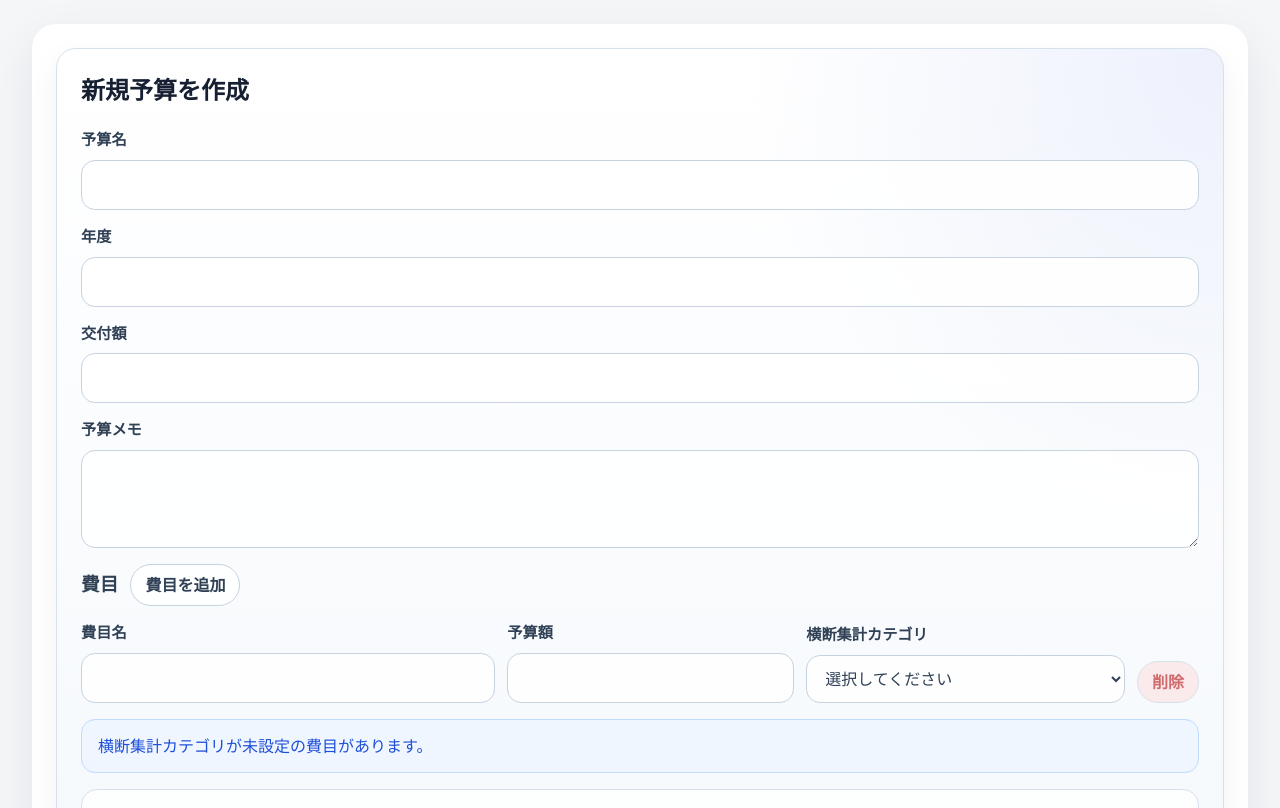
Test: NewFundForm › shows a blocking error when the API rejects the payload
Type "次年度予算" into the field labelled "予算名" at [640, 185], box [81,160,1199,210]
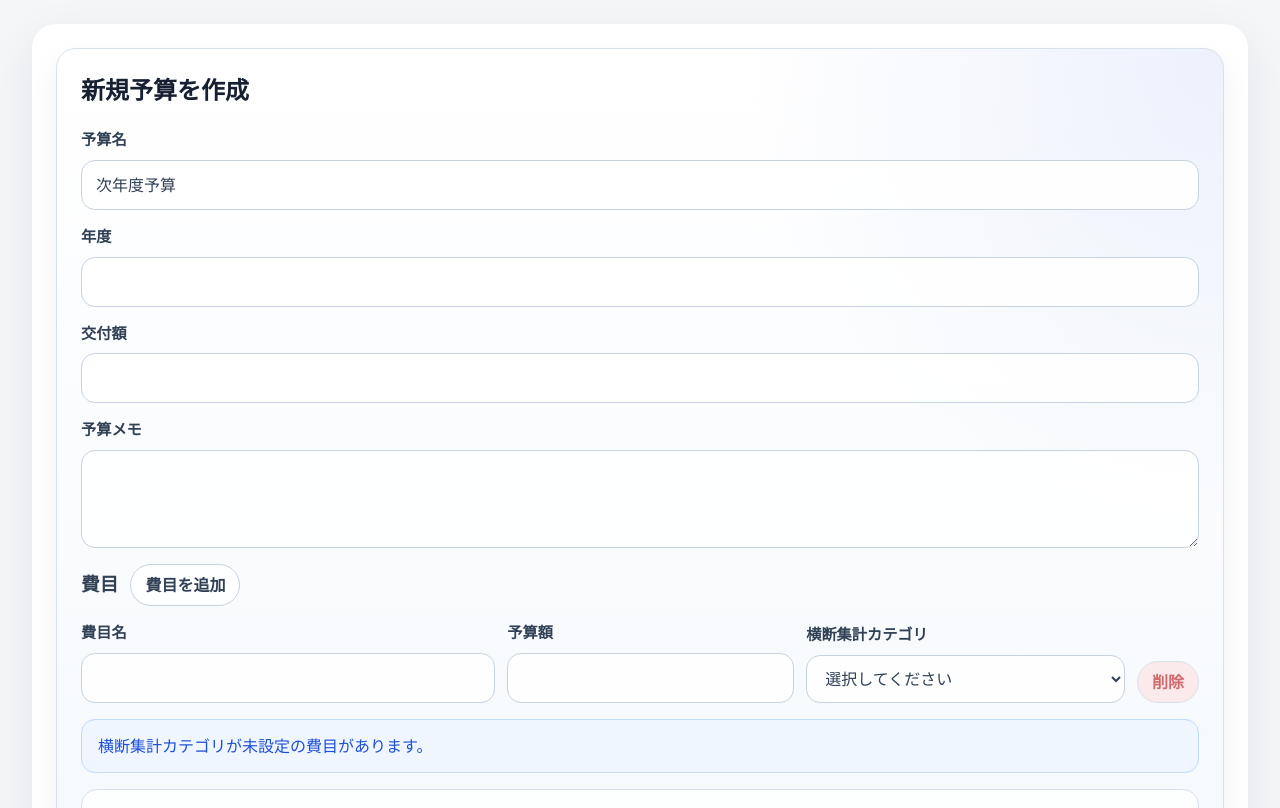
Type "2027" into the number field labelled "年度" at [640, 282], box [81,257,1199,307]
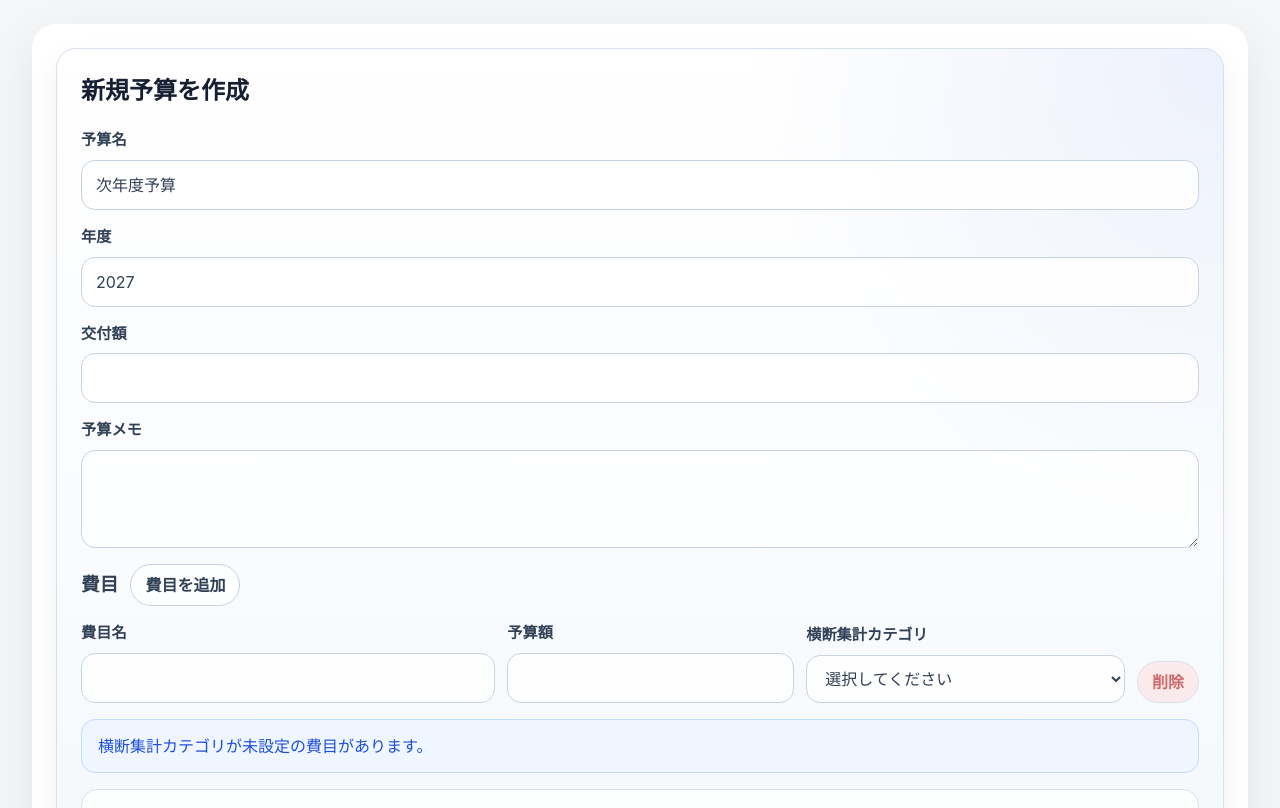
Type "1800000" into the field labelled "交付額" at [640, 378], box [81,353,1199,403]
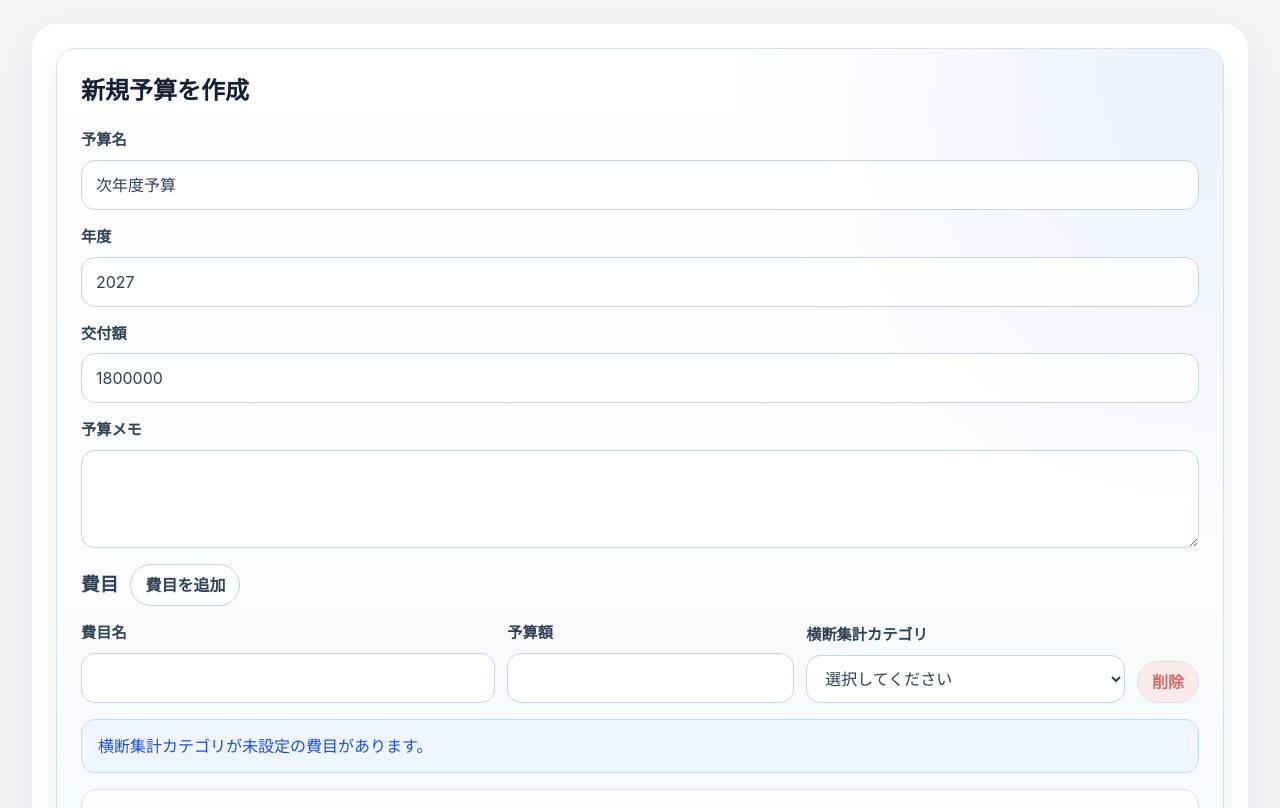
Type "出張" into the field labelled "費目名" at [288, 678], box [81,653,495,703]
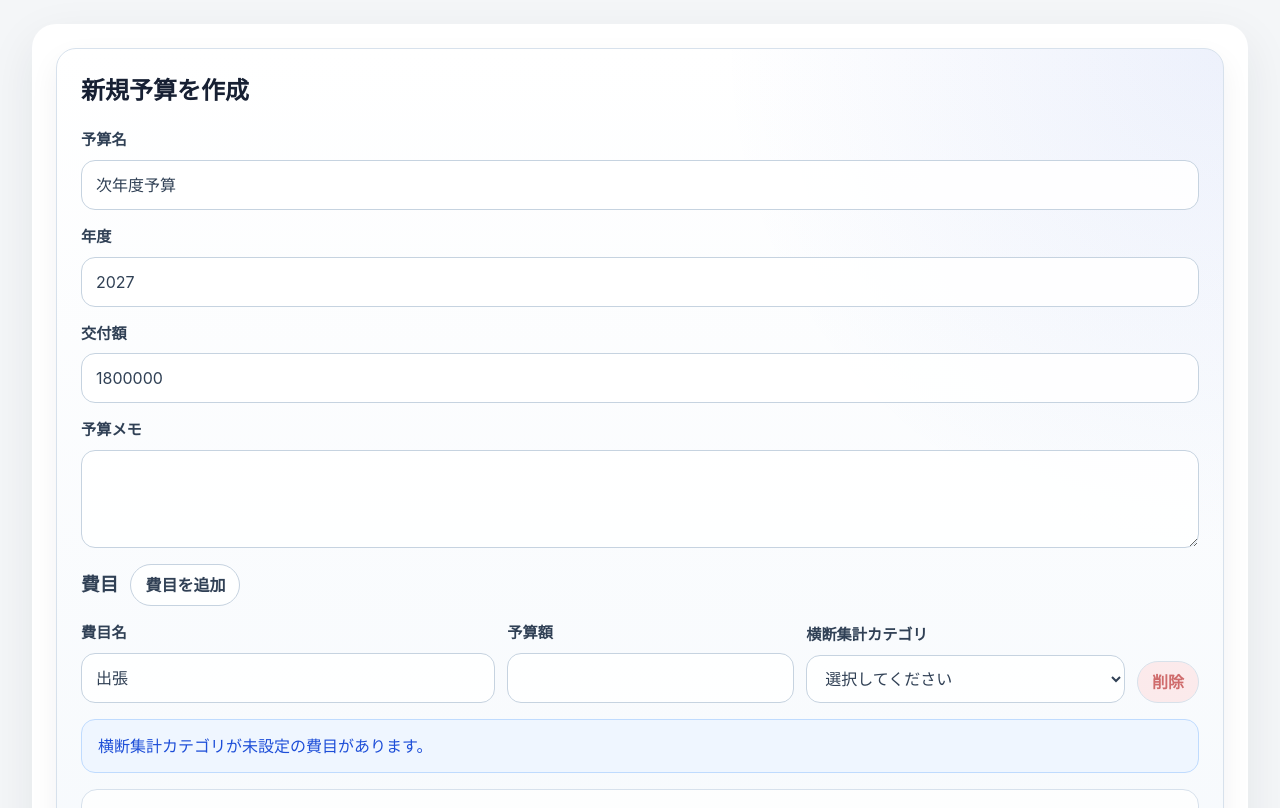
Type "700000" into the field labelled "予算額" at [651, 678], box [507,653,794,703]
(page scrolled)
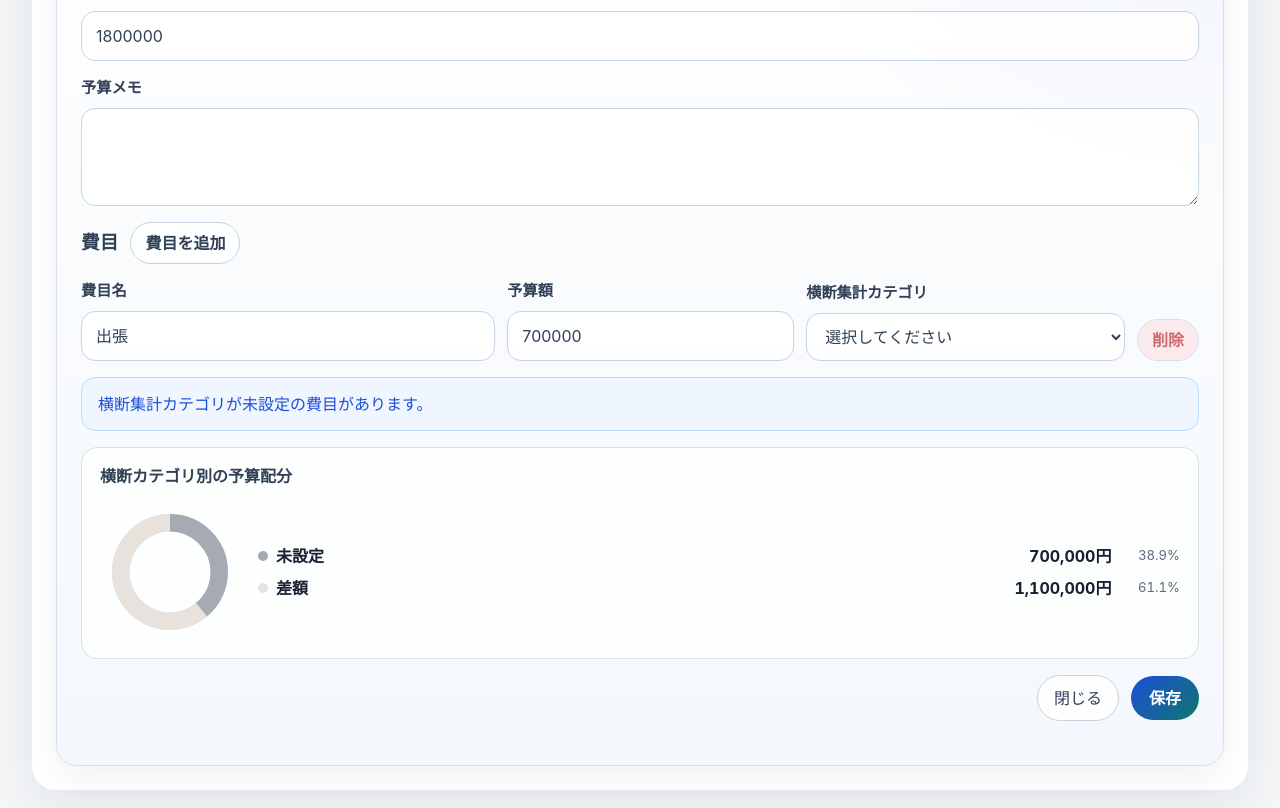
Click the button "保存" at [1165, 698], box [1131,676,1199,720]
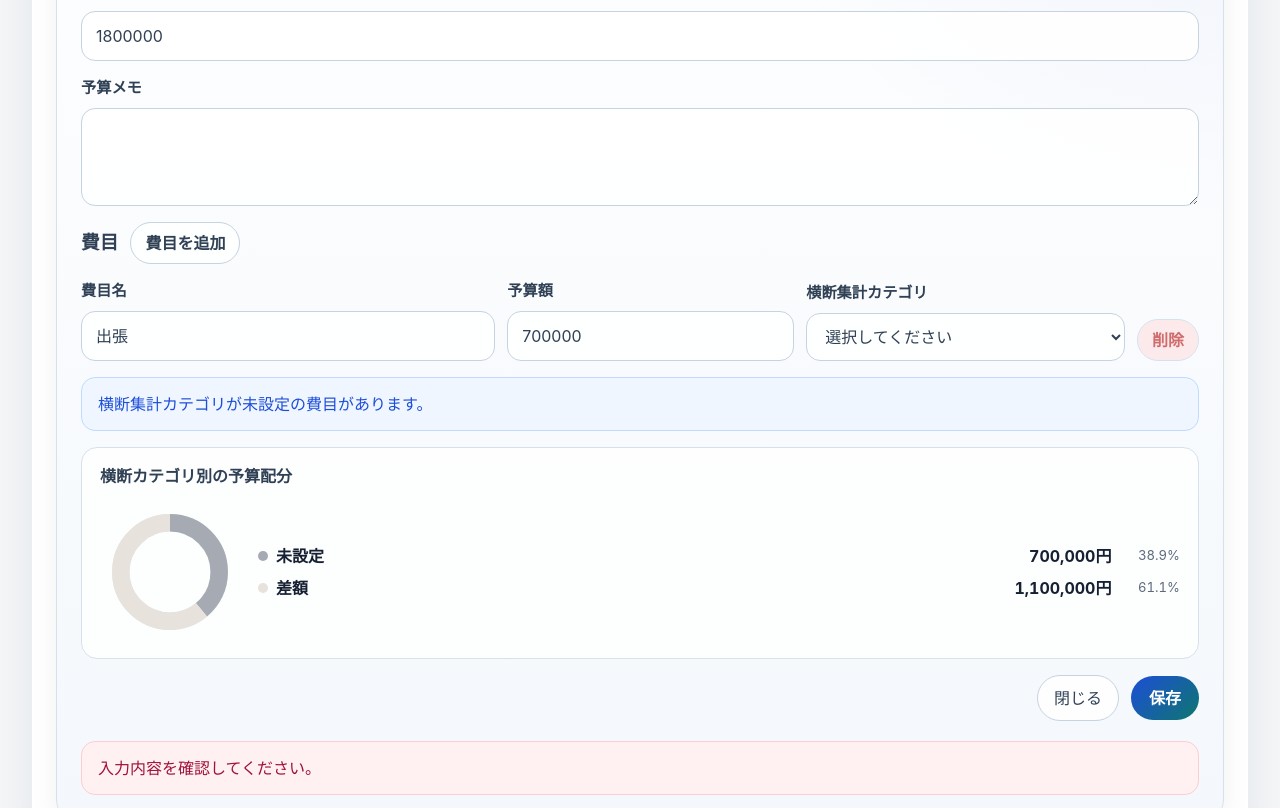
Result: the text "入力内容を確認してください。" is shown at [81,741,1199,795]
